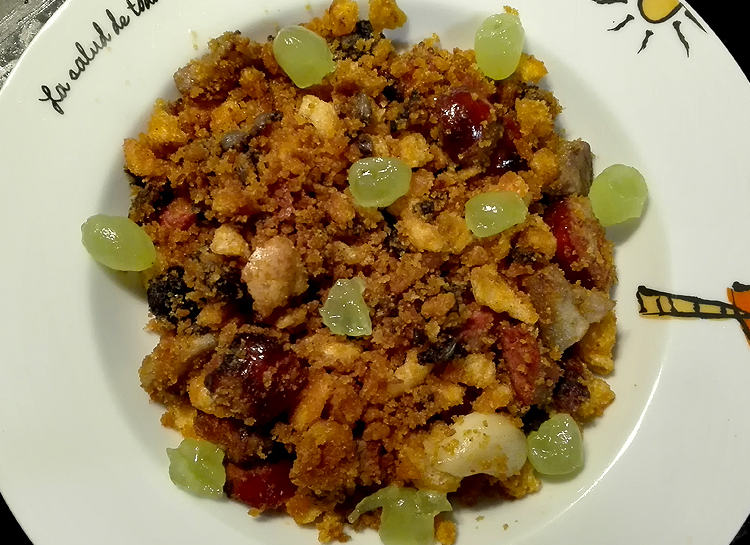Green grapes: (79, 212, 165, 271), (268, 22, 335, 88), (473, 8, 530, 85), (590, 163, 650, 227)
